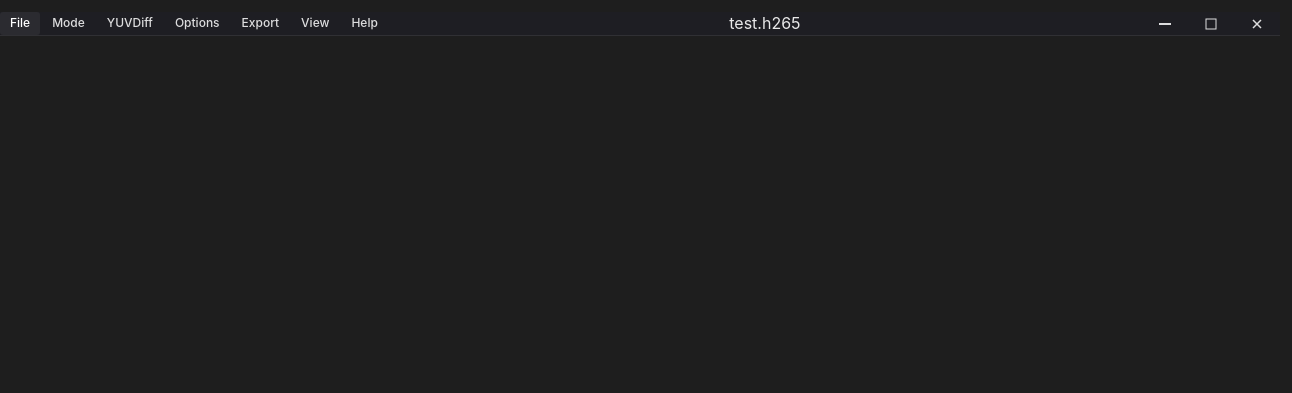
Test case: TitleBar › should open Mode menu on click
Hover over the text "Mode" at coordinates (69, 24), box x1=52 y1=15 x2=85 y2=32
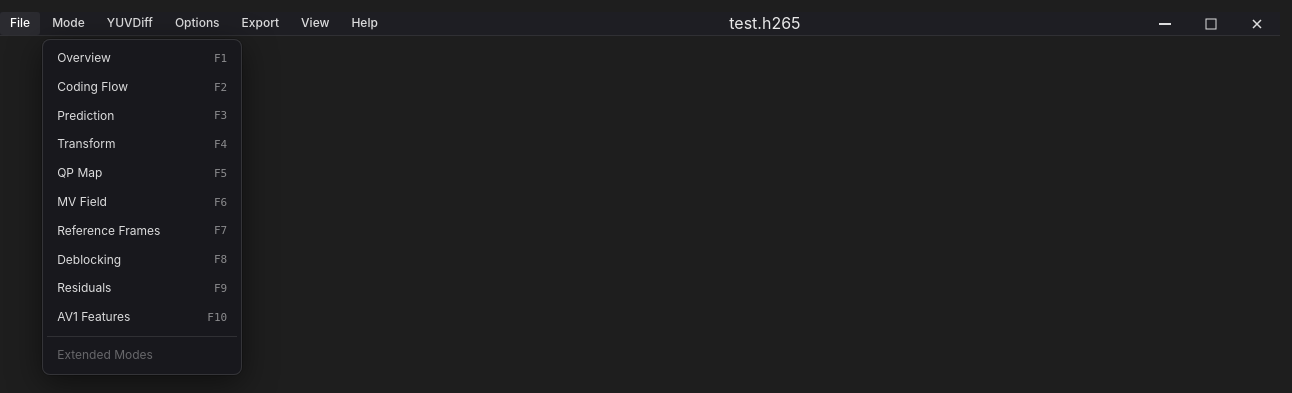
Result: the text "Overview" is shown at x1=57 y1=50 x2=111 y2=65
Result: the text "Coding Flow" is shown at x1=57 y1=79 x2=128 y2=94
Result: the text "Prediction" is shown at x1=57 y1=108 x2=114 y2=123
